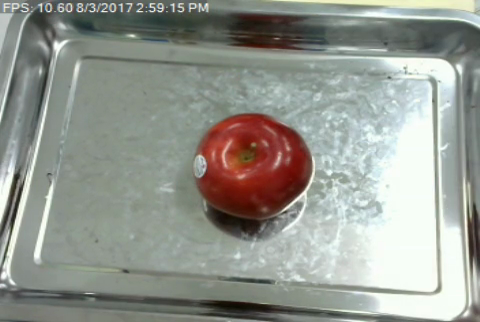Apple: (190, 108, 317, 227)
